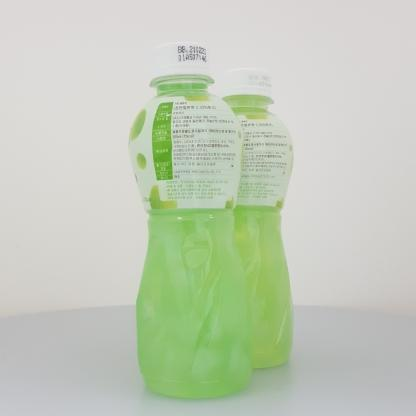-----------: (128, 41, 254, 398), (211, 67, 294, 367)
